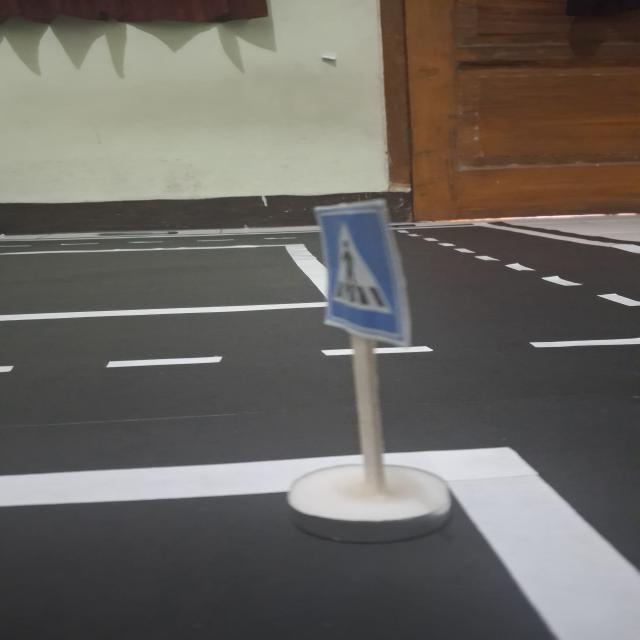Rambu Penyebrangan: (316, 205, 403, 342)
